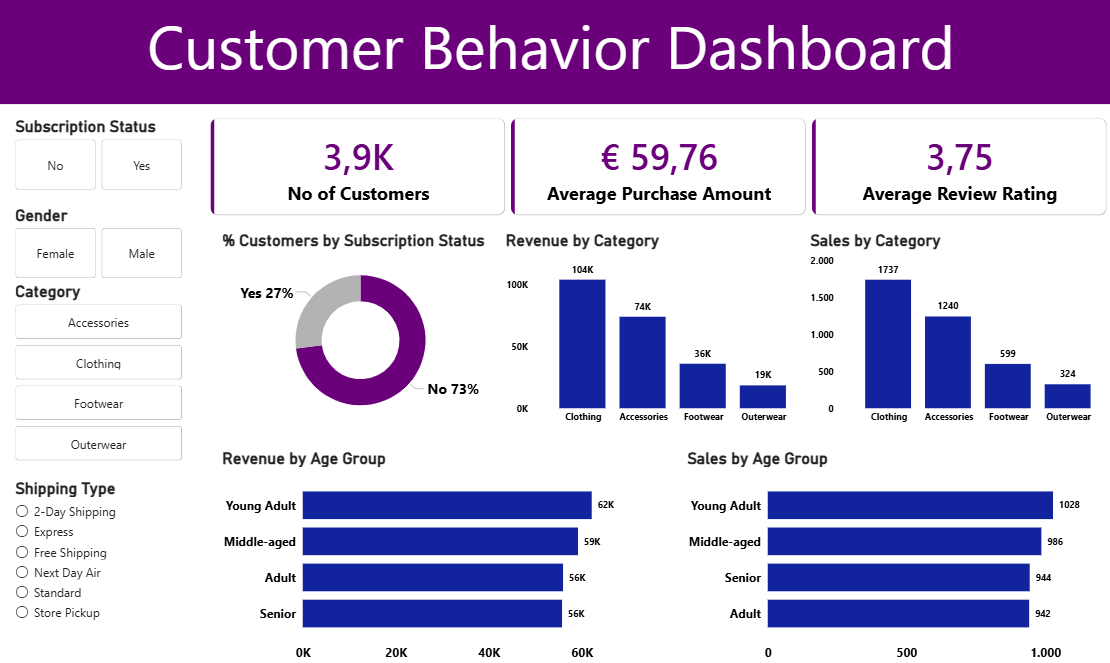

What the dashboard file says about the page in this screenshot:
{"tool":"powerbi","page":{"name":"Page 1","canvas":[1500,900],"ordinal":0},"visuals":[{"type":"shape","box":[0,0,1500,148],"z":0},{"type":"cardVisual","fields":{"Data":["df_customer_behaviour.No of Customers","df_customer_behaviour.Average Purchase Amount","df_customer_behaviour.Average Review Rating"]},"box":[270,148,1230,164],"z":1000},{"type":"textbox","box":[198,8,1104,132],"z":2000},{"type":"donutChart","title":"% Customers by Subscription Status","fields":{"Category":["df_customer_behaviour.subscription_status"],"Y":["CountNonNull(df_customer_behaviour.customer_id)"]},"box":[298,316,378,266],"z":3000},{"type":"clusteredColumnChart","title":"Revenue by Category","fields":{"Y":["Sum(df_customer_behaviour.purchase_amount)"],"Category":["df_customer_behaviour.category"]},"box":[676,316,418,266],"z":4000},{"type":"clusteredColumnChart","title":"Sales by Category","fields":{"Category":["df_customer_behaviour.category"],"Y":["CountNonNull(df_customer_behaviour.customer_id)"]},"box":[1082,316,418,266],"z":5000},{"type":"clusteredBarChart","title":"Revenue by Age Group","fields":{"Y":["Sum(df_customer_behaviour.purchase_amount)"],"Category":["df_customer_behaviour.age_group"]},"box":[298,606,566,294],"z":6000},{"type":"clusteredBarChart","title":"Sales by Age Group","fields":{"Y":["CountNonNull(df_customer_behaviour.customer_id)"],"Category":["df_customer_behaviour.age_group"]},"box":[918,606,582,294],"z":7000},{"type":"advancedSlicerVisual","title":"Subscription Status","fields":{"Values":["df_customer_behaviour.subscription_status"]},"box":[22,164,232,102],"z":8000},{"type":"advancedSlicerVisual","title":"Gender","fields":{"Values":["df_customer_behaviour.gender"]},"box":[22,282,232,102],"z":9000},{"type":"advancedSlicerVisual","title":"Category","fields":{"Values":["df_customer_behaviour.category"]},"box":[22,384,232,246],"z":10000},{"type":"listSlicer","title":"Shipping Type","fields":{"Values":["df_customer_behaviour.shipping_type"]},"box":[22,646,232,254],"z":11000}]}

Visuals, with their boxes in screenshot pixels (x1, y1, x2, y2), scaled from the page's 1500x900 canvas onto the 1110x663 screenshot:
shape: {"left": 0, "top": 0, "right": 1109, "bottom": 109}
cardVisual - df_customer_behaviour.No of Customers x df_customer_behaviour.Average Purchase Amount: {"left": 200, "top": 109, "right": 1109, "bottom": 230}
textbox: {"left": 147, "top": 6, "right": 963, "bottom": 103}
"% Customers by Subscription Status" donutChart: {"left": 221, "top": 233, "right": 500, "bottom": 429}
"Revenue by Category" clusteredColumnChart: {"left": 500, "top": 233, "right": 810, "bottom": 429}
"Sales by Category" clusteredColumnChart: {"left": 801, "top": 233, "right": 1109, "bottom": 429}
"Revenue by Age Group" clusteredBarChart: {"left": 221, "top": 446, "right": 639, "bottom": 662}
"Sales by Age Group" clusteredBarChart: {"left": 679, "top": 446, "right": 1109, "bottom": 662}
"Subscription Status" advancedSlicerVisual: {"left": 16, "top": 121, "right": 188, "bottom": 196}
"Gender" advancedSlicerVisual: {"left": 16, "top": 208, "right": 188, "bottom": 283}
"Category" advancedSlicerVisual: {"left": 16, "top": 283, "right": 188, "bottom": 464}
"Shipping Type" listSlicer: {"left": 16, "top": 476, "right": 188, "bottom": 662}
